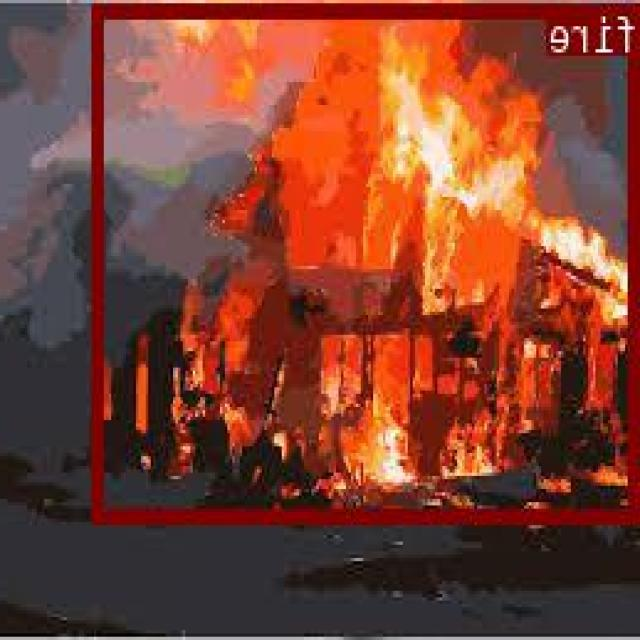fire: (96, 2, 640, 520)
